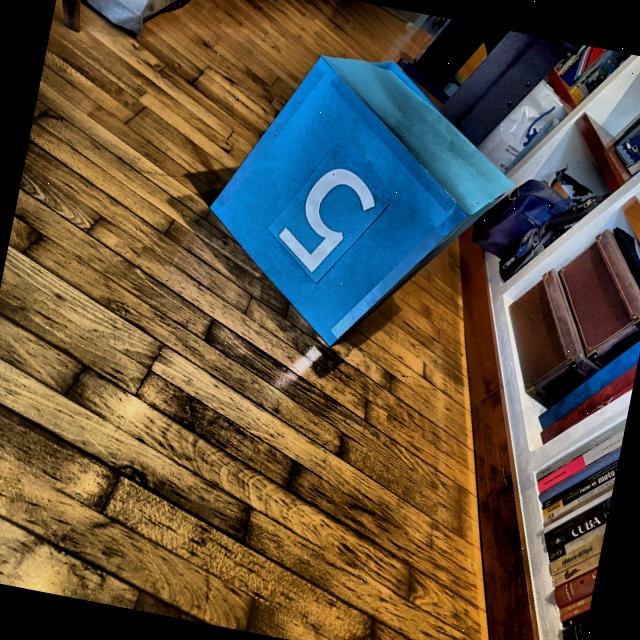blue box: (184, 32, 536, 379)
five: (268, 155, 382, 285)
